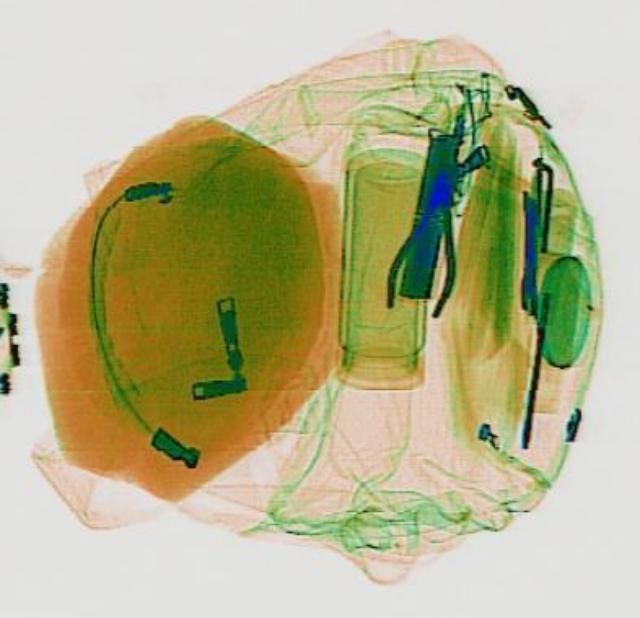Pliers: (375, 163, 479, 315)
